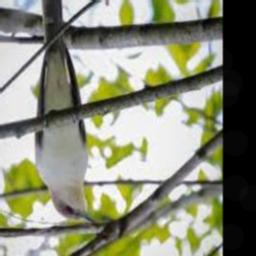Cuckoo: (36, 0, 96, 222)
